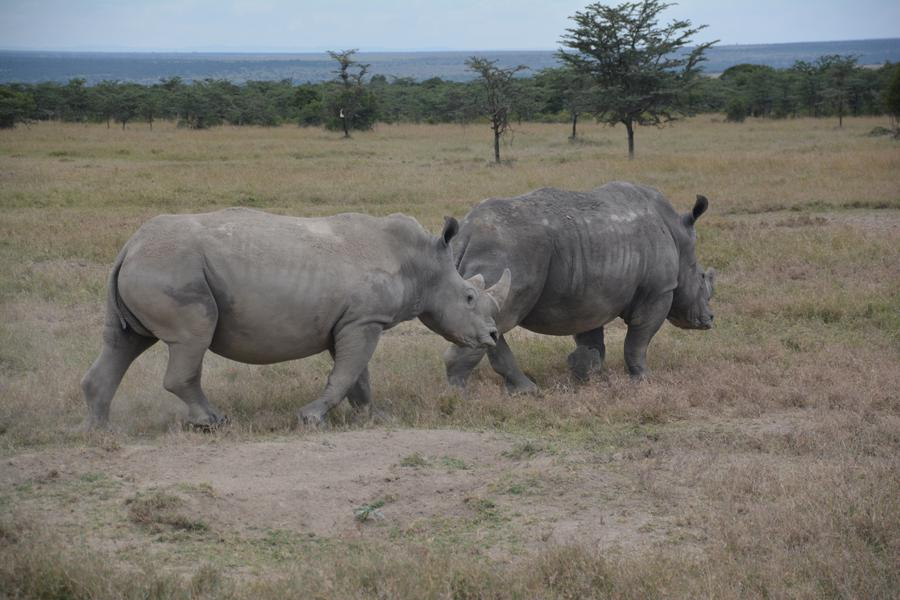rhino: (104, 202, 467, 408), (478, 177, 709, 371)
